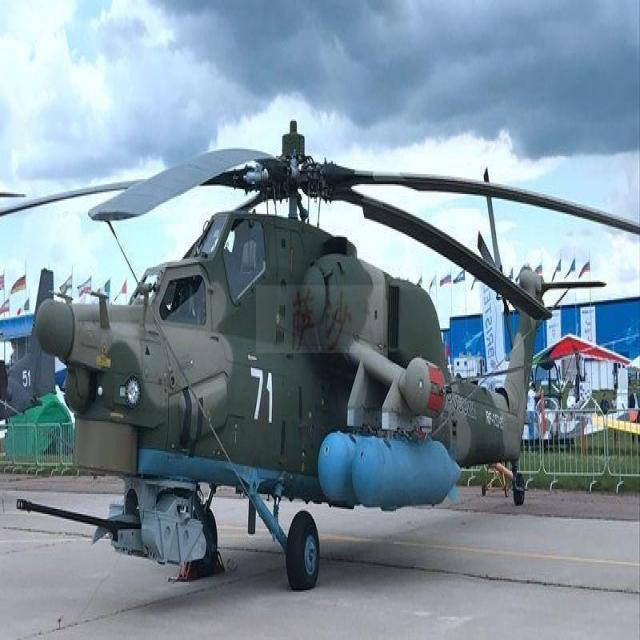MIL_HELO: (0, 116, 640, 599)
